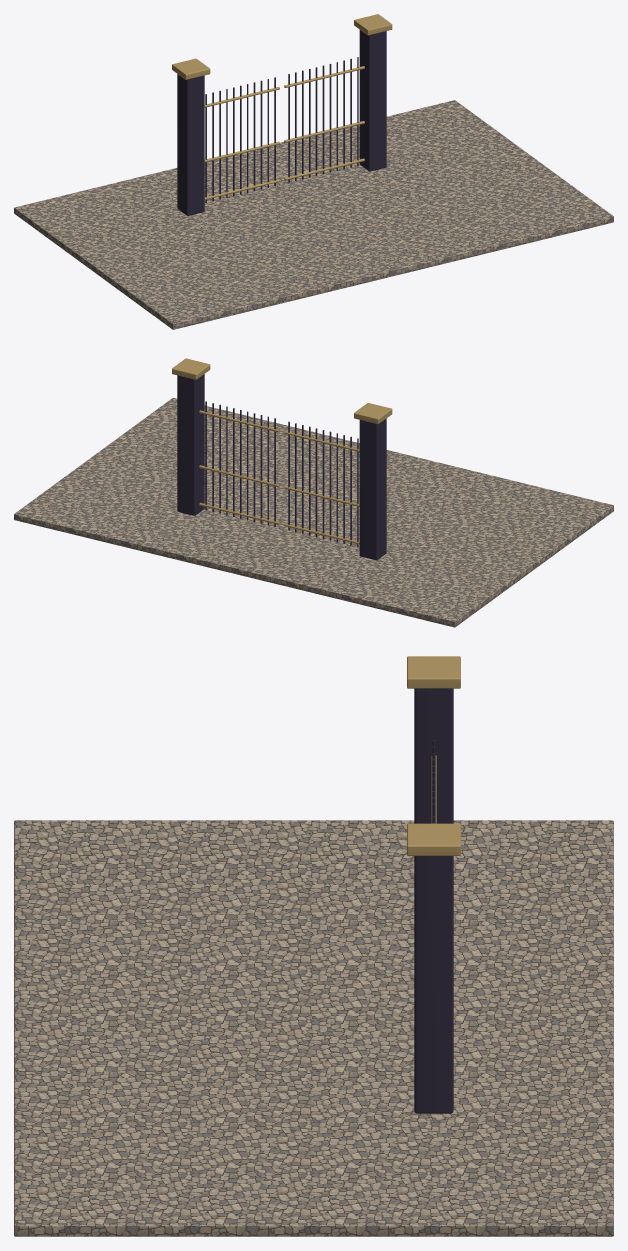
The model's file is local_park_main_gate.glb.
3 renders of one model, top to bottom at view 1: azimuth 30°, elevation 25°; view 2: azimuth 150°, elevation 25°; view 3: azimuth 270°, elevation 25°, orthographic. The views are drawn at different scales.
Visible parts, largest first — view 1: Runtime_local_park_main_gate; view 2: Runtime_local_park_main_gate; view 3: Runtime_local_park_main_gate.
Part boxes in pixels (x1,y1,x2,y2): Runtime_local_park_main_gate: [14, 14, 613, 329]; Runtime_local_park_main_gate: [14, 358, 613, 627]; Runtime_local_park_main_gate: [14, 656, 613, 1236].
Size of the model in its own units: 16 by 5.22 by 10.
3 materials, 1 textured.
